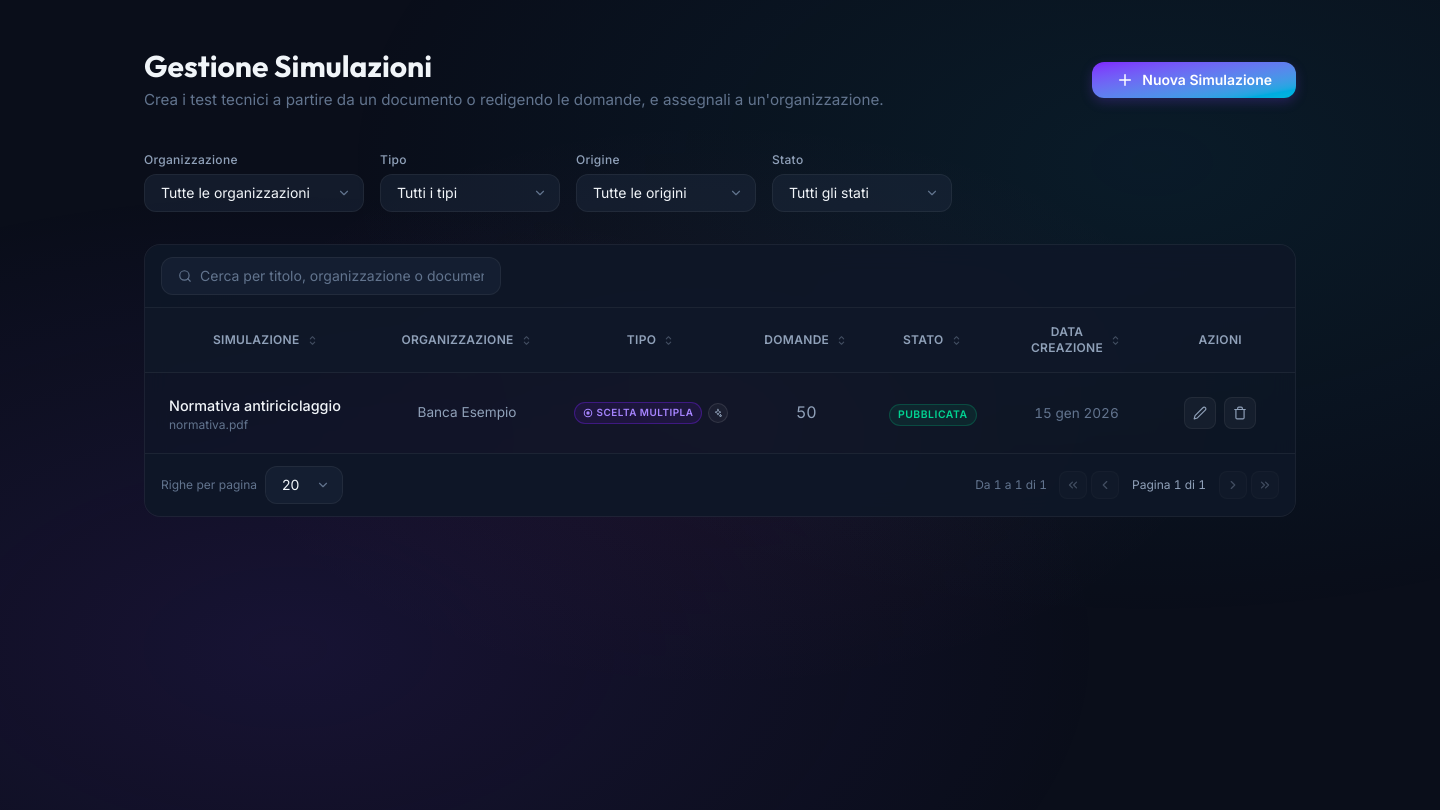
elenco › nomina l'organizzazione che ha svuotato la tabella
Click the dropdown named "Organizzazione".
click(254, 193)  # box [144,174,364,212]
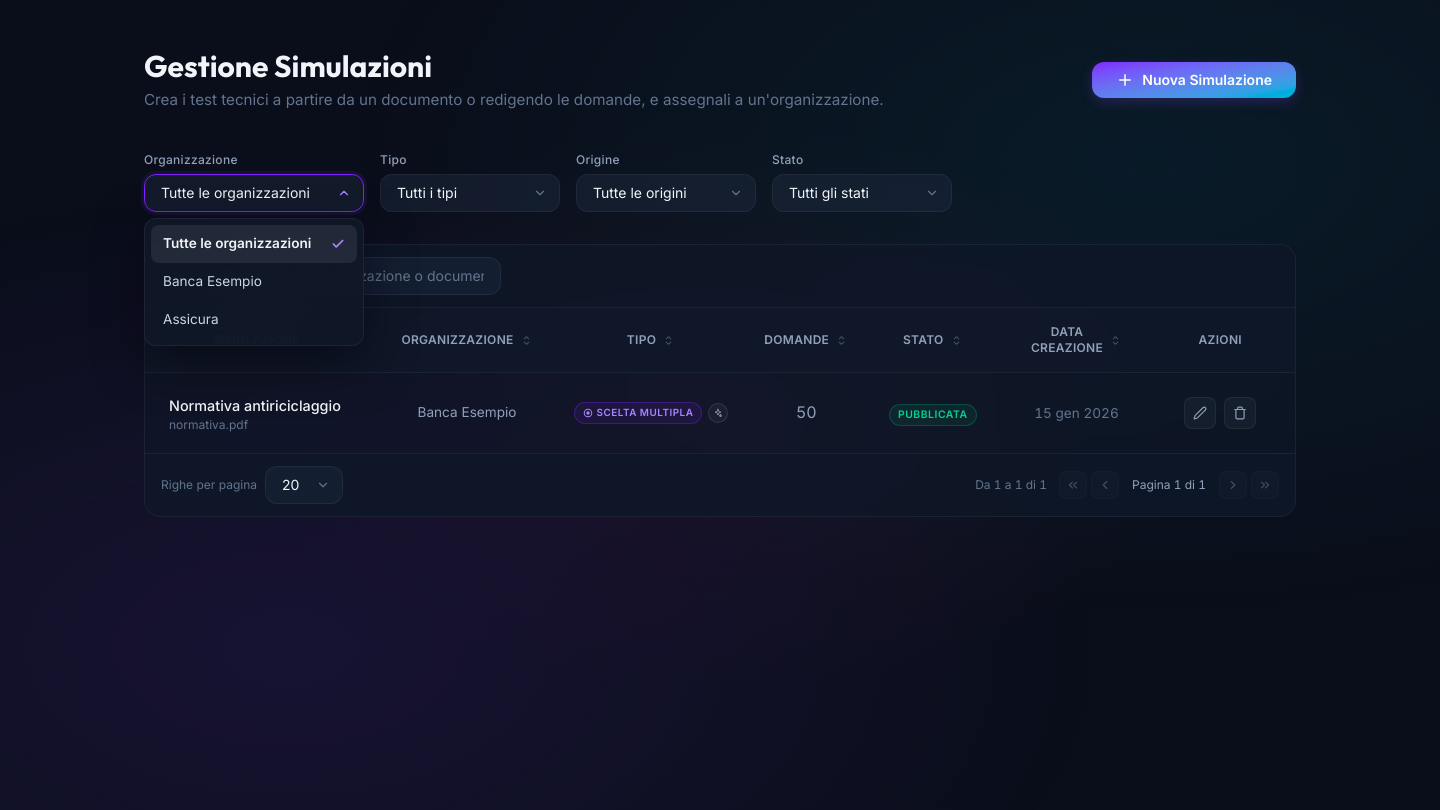
Click the option "Assicura".
click(191, 319)  # box [163,311,219,327]
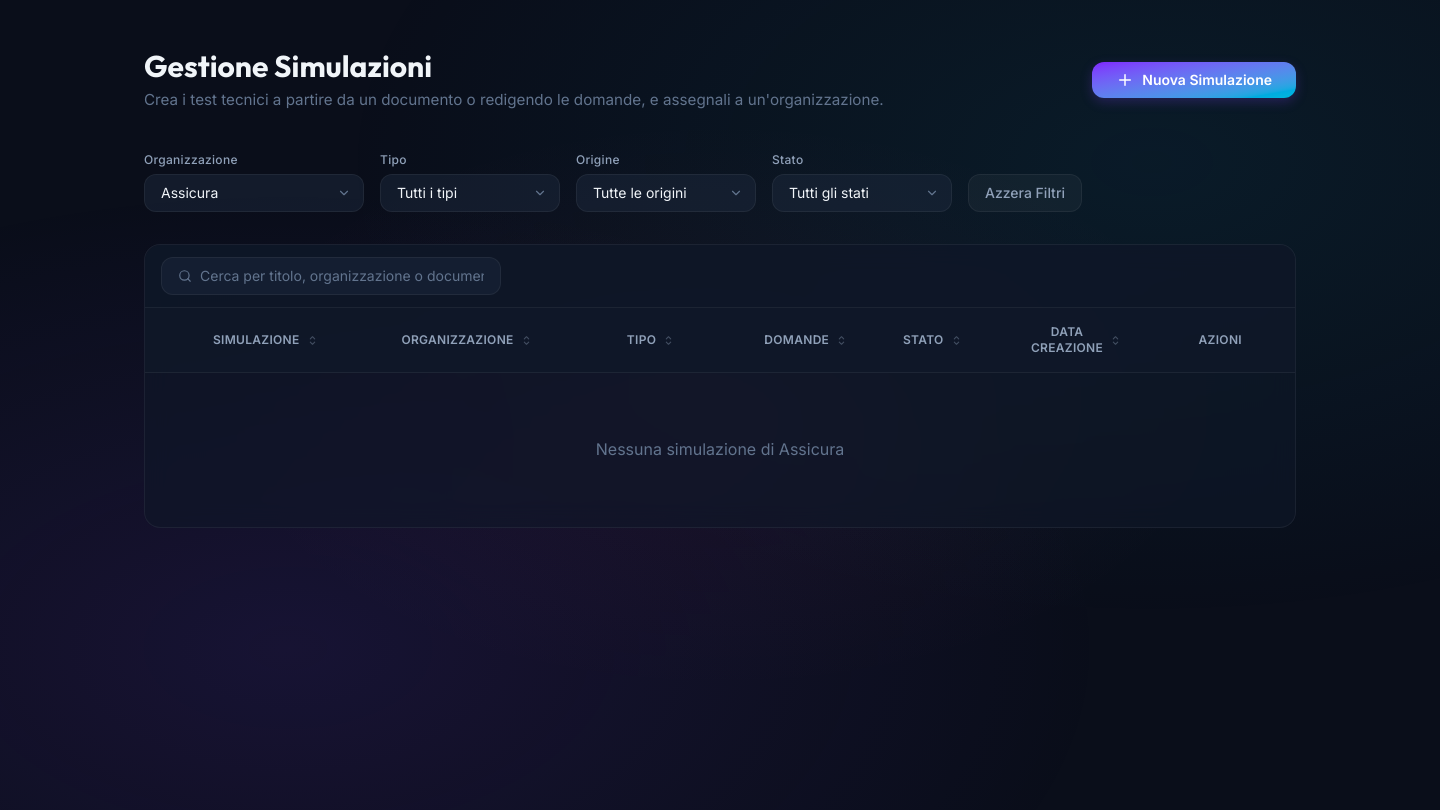
Expected: the text "Nessuna simulazione di Assicura" is shown, [145,373,1295,527]
